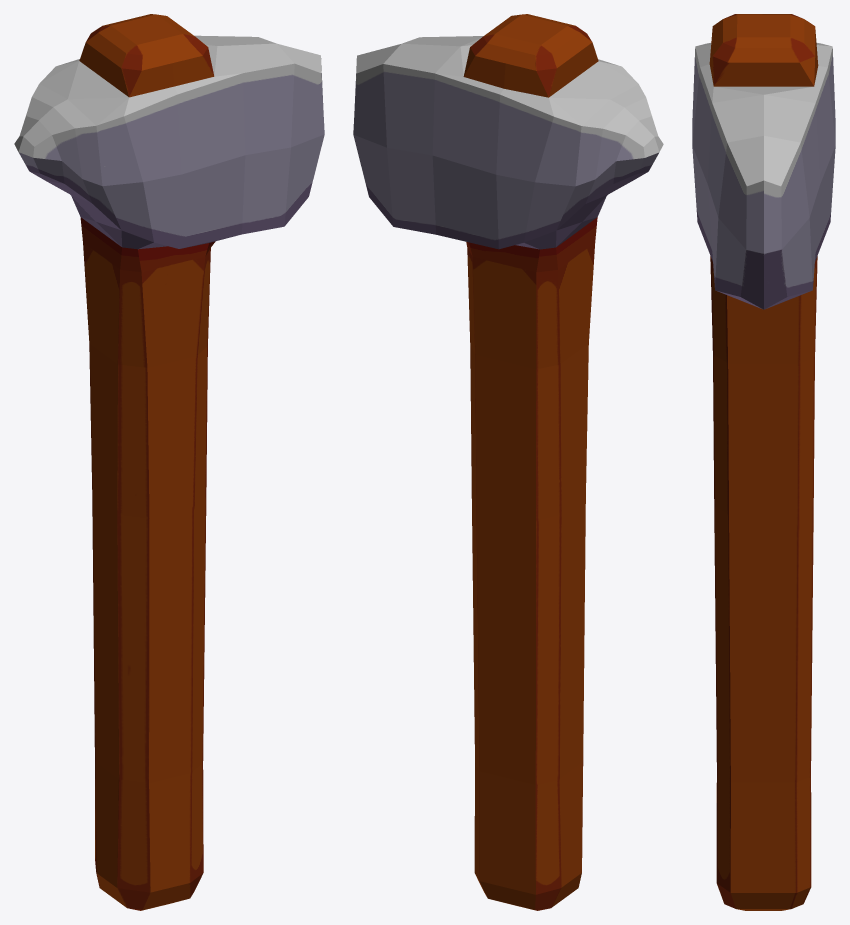
Rendered from Axe.fbx.
3 renders of one model, left to right at view 1: azimuth 30°, elevation 25°; view 2: azimuth 150°, elevation 25°; view 3: azimuth 270°, elevation 25°, orthographic.
Visible parts, largest first — view 1: Axe; view 2: Axe; view 3: Axe.
Part boxes in pixels (left/top/right/bottom): Axe: left=14, top=14, right=324, bottom=910; Axe: left=353, top=14, right=663, bottom=910; Axe: left=692, top=14, right=835, bottom=910.
Size of the model in its own units: 143 by 963 by 354.
